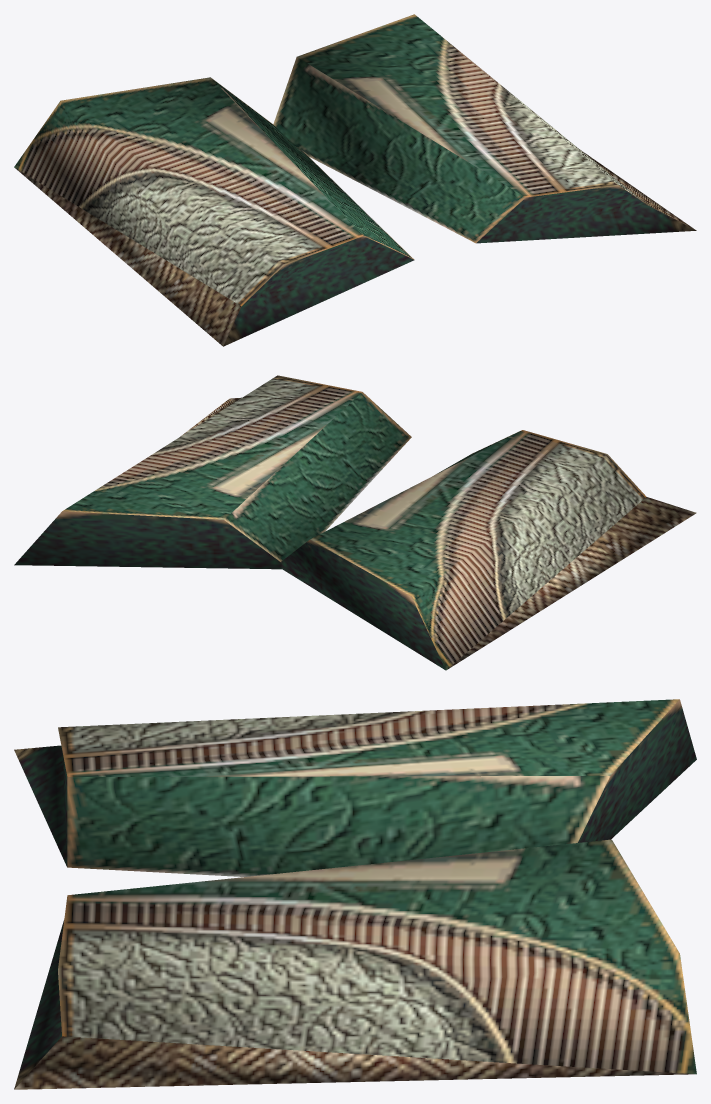
File: LegPads6.glb
The picture shows the model from 3 angles, top to bottom: view 1: azimuth 30°, elevation 25°; view 2: azimuth 150°, elevation 25°; view 3: azimuth 270°, elevation 25°; orthographic projection. The views are drawn at different scales.
Visible parts, largest first — view 1: LegPads6; view 2: LegPads6; view 3: LegPads6.
Part boxes in pixels (box(x1,y1,x2,y2)): LegPads6: box(14, 14, 696, 346); LegPads6: box(14, 375, 696, 670); LegPads6: box(14, 699, 696, 1089).
Bounding box in the file's own units: 22.69 × 3.43 × 19.23.
1 material, 1 textured.
